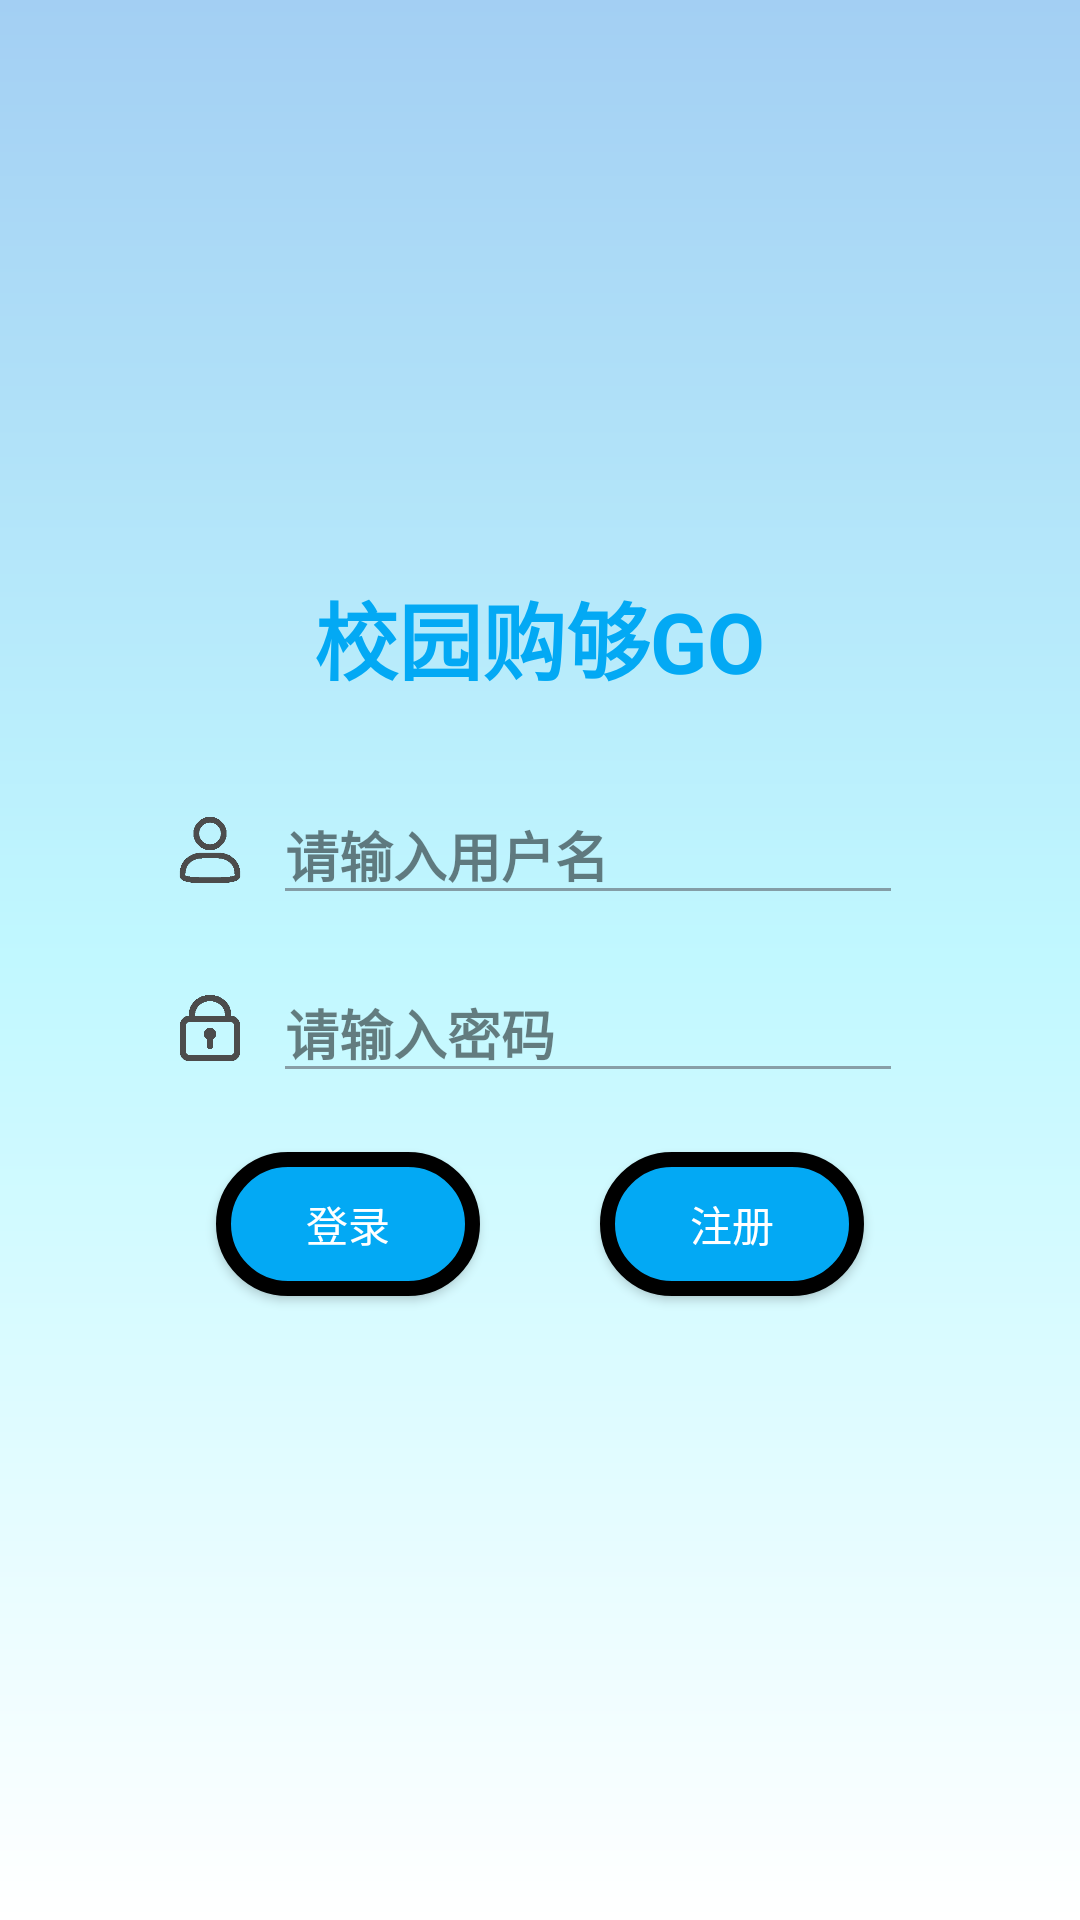

Point at icon controls on the screen. Image size 1080w x 1920h, points as (x=x, y=y).
mima: (x=210, y=1028)
touxiang: (x=210, y=850)
